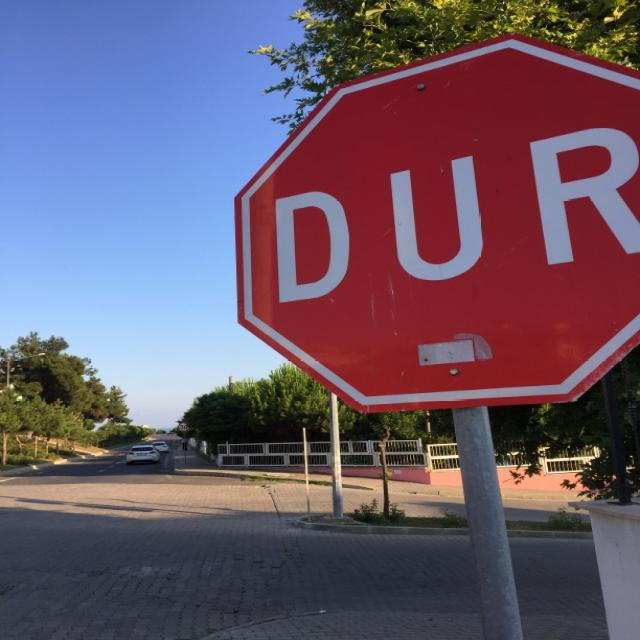dur: (230, 35, 640, 418)
